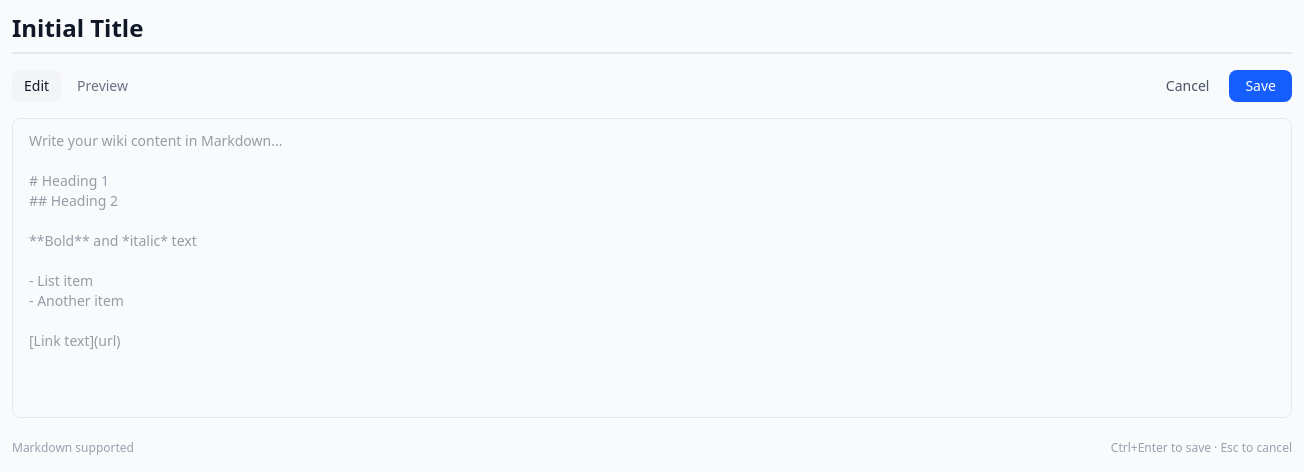
Test: WikiEditor › shows placeholder text in preview when content is empty
Click the button "Preview" at {"x": 103, "y": 86}, box x1=65 y1=70 x2=140 y2=102
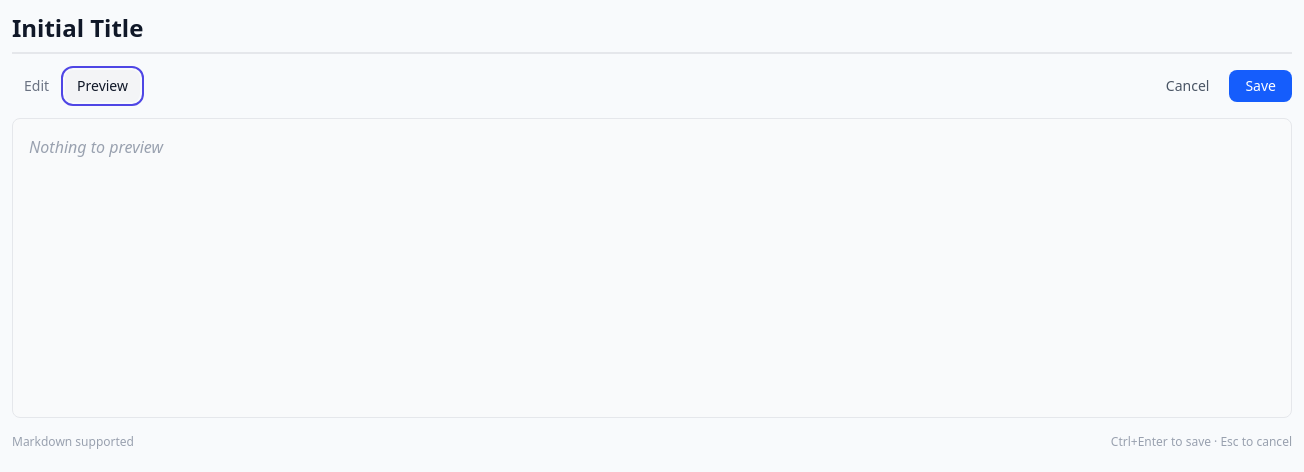
Check: the text "Nothing to preview" is shown, box x1=29 y1=136 x2=163 y2=158
